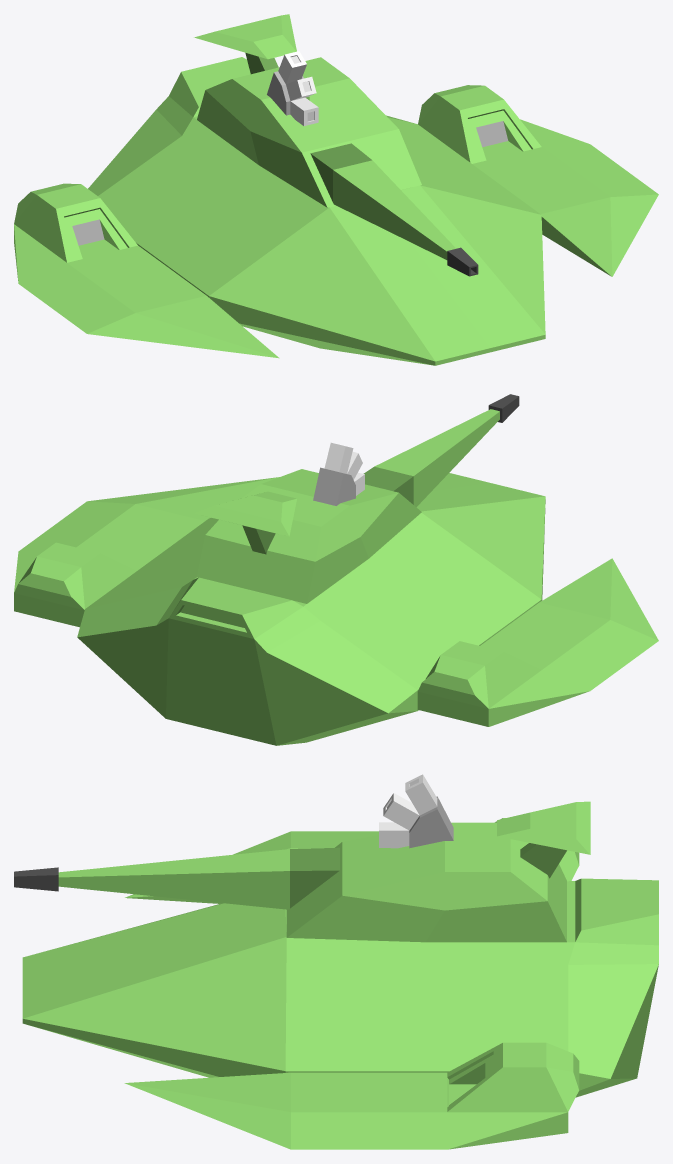
Rendered from czar.fbx.
The picture shows the model from 3 angles, top to bottom: view 1: azimuth 30°, elevation 25°; view 2: azimuth 150°, elevation 25°; view 3: azimuth 270°, elevation 25°; orthographic projection. The views are drawn at different scales.
Visible parts, largest first — view 1: Main Body.001, Right wing, Left wing, Turret, Gun, Tail wing, Ammo clip; view 2: Main Body.001, Right wing, Left wing, Turret, Gun, Tail wing, Ammo clip; view 3: Main Body.001, Left wing, Turret, Gun, Tail wing, Ammo clip, Right wing.
Part boxes in pixels (box(x1,y1,x2,y2)): Main Body.001: box(88, 57, 545, 365); Right wing: box(14, 183, 279, 358); Left wing: box(418, 85, 658, 276); Turret: box(197, 57, 421, 207); Gun: box(310, 143, 478, 276); Tail wing: box(194, 14, 296, 74); Ammo clip: box(267, 51, 318, 125); Main Body.001: box(77, 473, 545, 745); Right wing: box(417, 558, 658, 726); Left wing: box(14, 477, 279, 627); Turret: box(197, 469, 421, 603); Gun: box(363, 394, 519, 507); Tail wing: box(194, 491, 296, 554); Ammo clip: box(313, 442, 364, 505); Main Body.001: box(22, 878, 658, 1097); Left wing: box(124, 1042, 579, 1149); Turret: box(286, 822, 566, 942); Gun: box(14, 847, 339, 909); Tail wing: box(497, 801, 590, 878); Ammo clip: box(379, 774, 453, 848); Right wing: box(125, 818, 579, 903).
Size of the model in its own units: 16.39 by 6.67 by 14.03.
